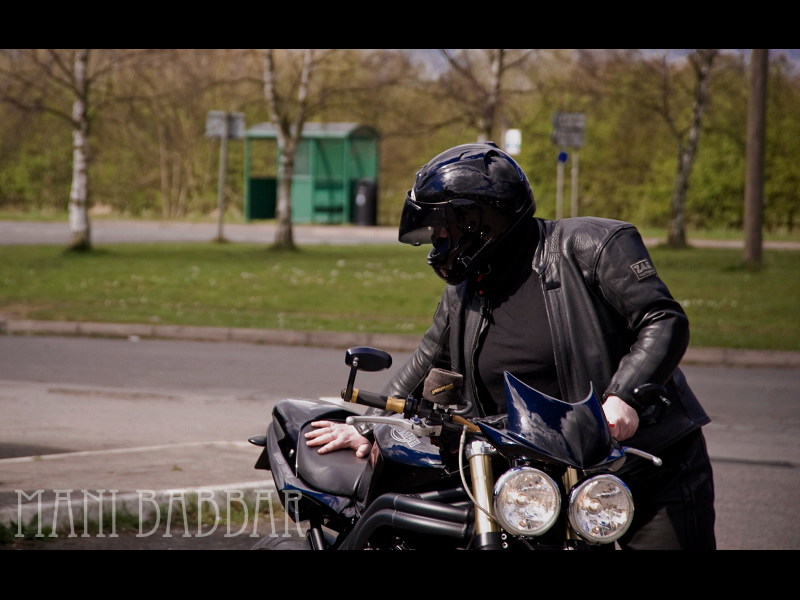helmet: (410, 146, 540, 279)
